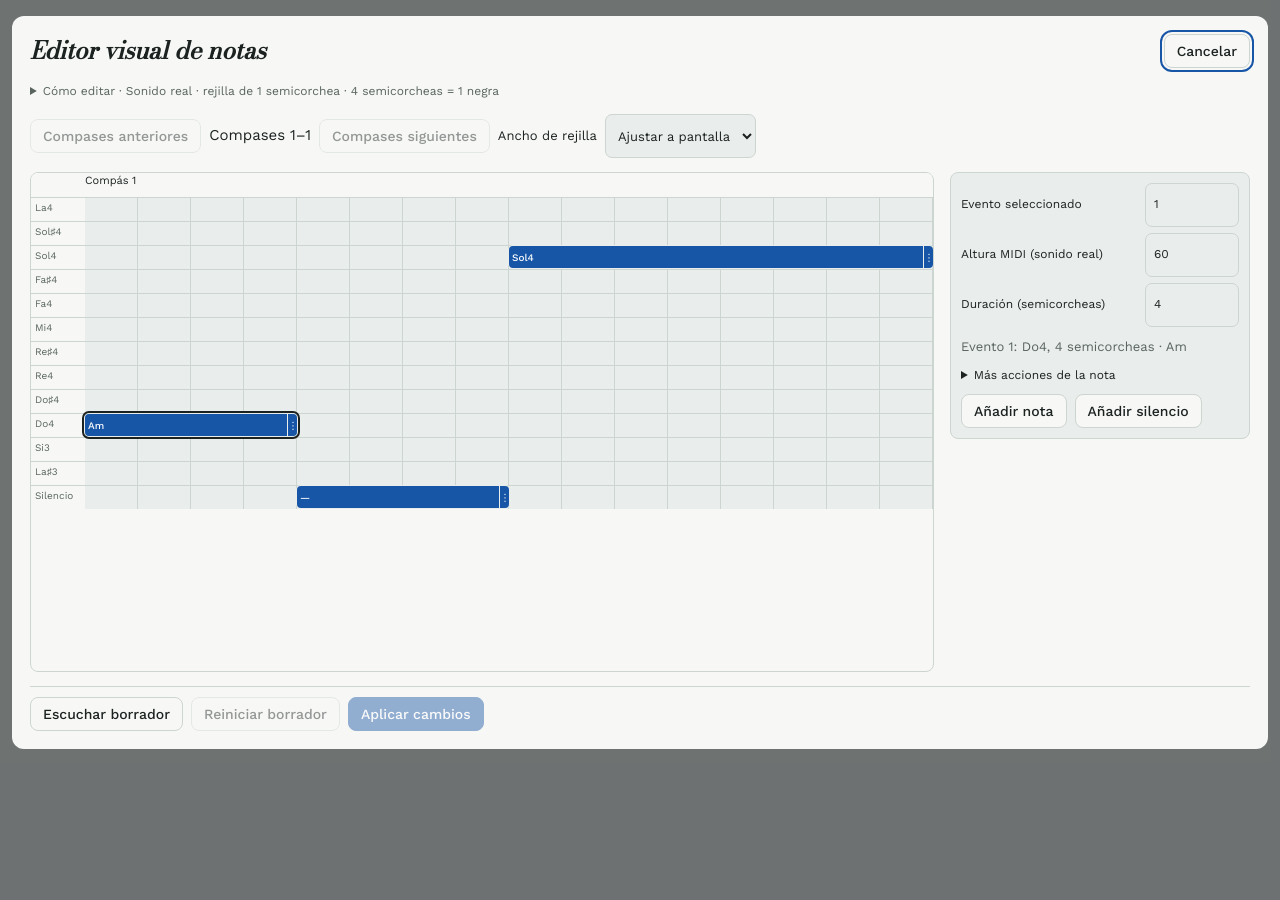
Test: editor visual: aplicar y descartar › evita sobrescribir una partitura que cambió después de abrir
Replace the text in the number field labelled "Altura MIDI (sonido real)" with "65" at (1192, 255), box [1145,233,1239,277]
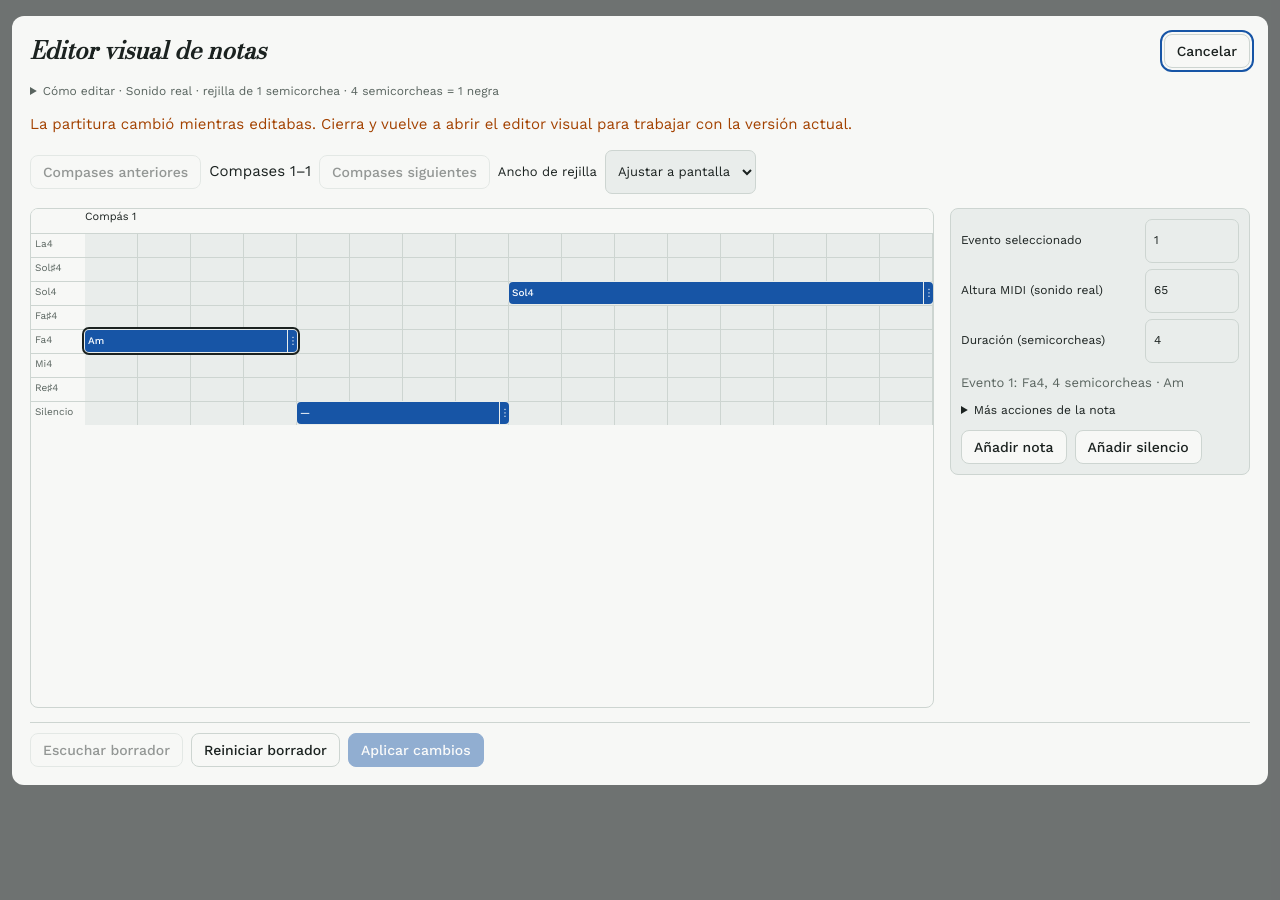
Expected: the button "Aplicar cambios" is disabled, [348,733,484,767]
Result: the 1st message shows "La partitura cambió mientras editabas. Cierra y vuelve a abrir el editor visual para trabajar con la versión actual." at [30,115,852,133]
